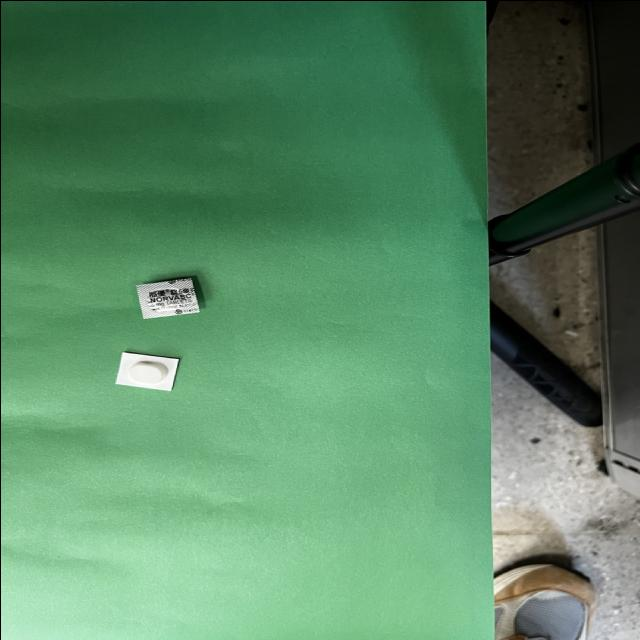Other Objects: (137, 276, 199, 318), (115, 352, 179, 390)
